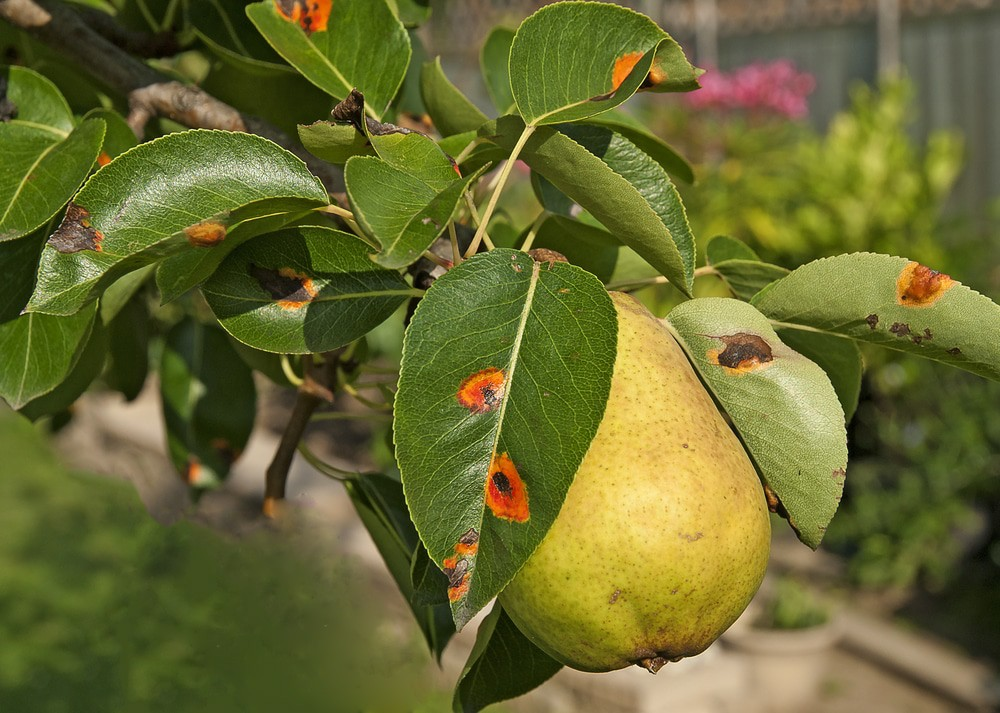pear: (483, 287, 771, 671)
